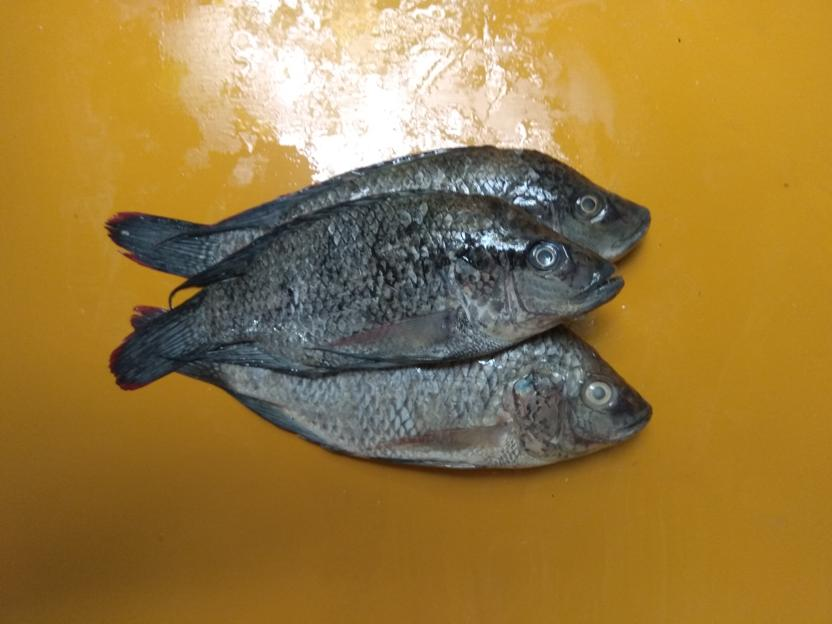Fish head: (452, 212, 627, 342), (511, 345, 655, 464), (519, 157, 653, 266)
Fish tail: (108, 285, 212, 393), (103, 209, 222, 279)
